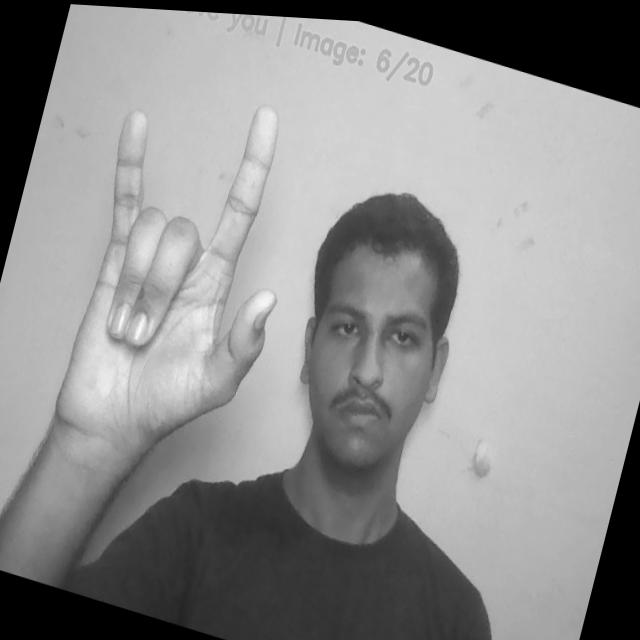I love you: (45, 53, 328, 474)
